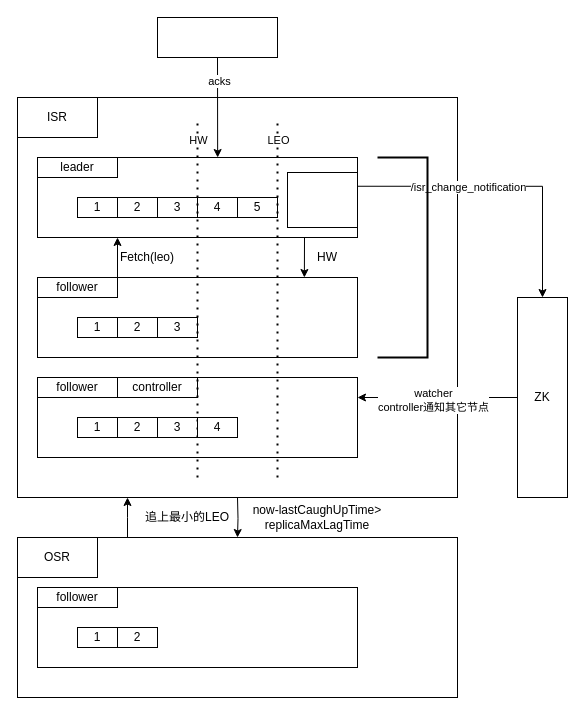
The diagram is 585 pixels wide and 715 high, and some of its shapes have lost their labels. Each missing label, with the box of its shape:
isr-expiration isr-propagation: (286, 172, 358, 228)
min. insync. replicas: (376, 156, 428, 358)
Producer: (156, 16, 278, 58)
